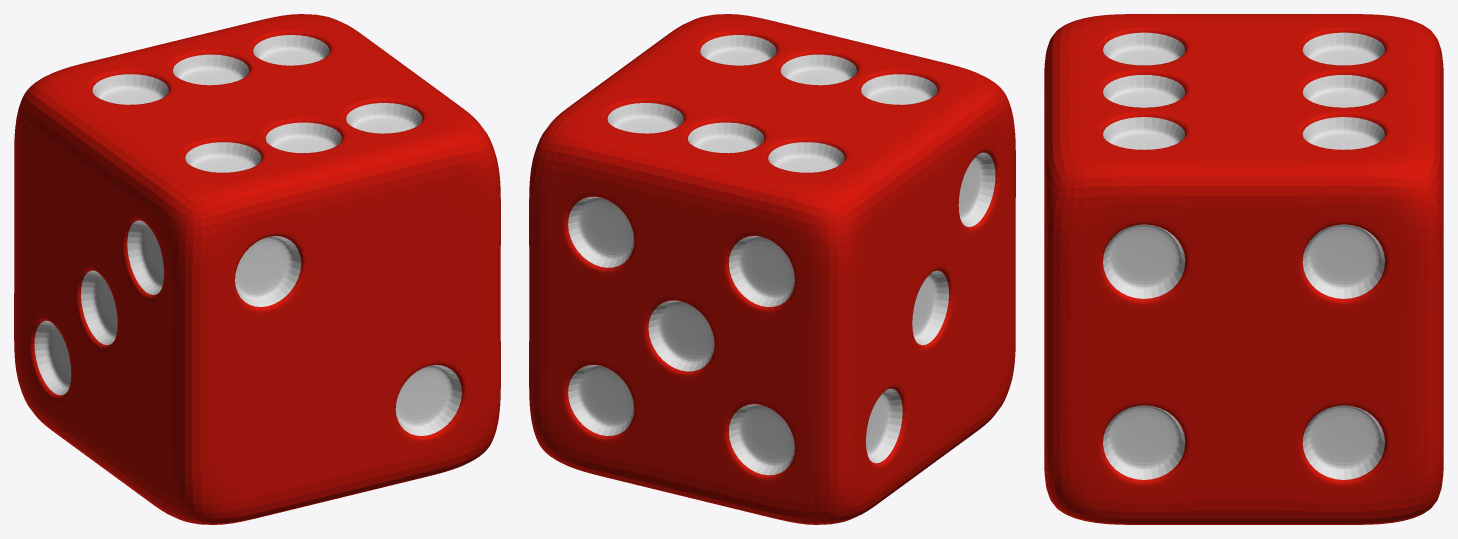
Rendered from dicered.glb.
3 views of the same model, side by side, from view 1: azimuth 30°, elevation 25°; view 2: azimuth 150°, elevation 25°; view 3: azimuth 270°, elevation 25° (orthographic). The views are drawn at different scales.
Visible parts, largest first — view 1: red, dots; view 2: red, dots; view 3: red, dots.
Boxes of the visible parts, <box> form: red: <box>14,14,500,524</box>; dots: <box>34,35,461,435</box>; red: <box>529,14,1015,524</box>; dots: <box>568,35,995,475</box>; red: <box>1044,14,1443,524</box>; dots: <box>1103,32,1384,479</box>.
Bounding box in the file's own units: 25.68 × 25.68 × 25.68.
